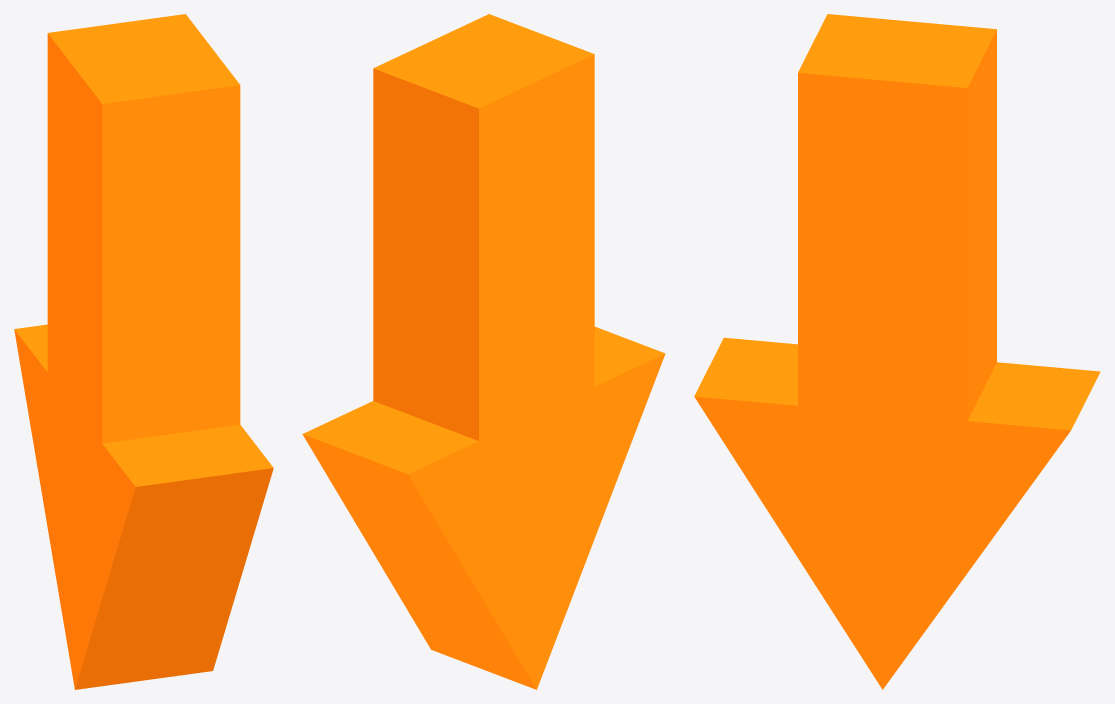
File: A_GoHereArrow.fbx
The picture shows the model from 3 angles, left to right: view 1: azimuth 30°, elevation 25°; view 2: azimuth 150°, elevation 25°; view 3: azimuth 270°, elevation 25°; orthographic projection. The views are drawn at different scales.
Parts seen in each view (by area): view 1: pCube1; view 2: pCube1; view 3: pCube1.
Part boxes in pixels (box(x1,y1,x2,y2)): pCube1: box(14, 14, 273, 689); pCube1: box(302, 14, 665, 689); pCube1: box(694, 14, 1100, 689).
Size of the model in its own units: 2.7 by 8.27 by 5.
